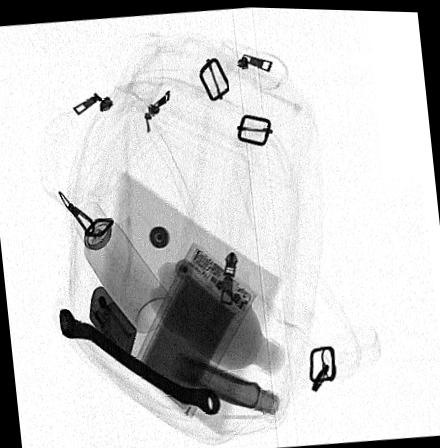Lighter: (88, 283, 136, 364)
Powerbank: (130, 242, 255, 418)
Sprayer: (70, 200, 175, 333)
